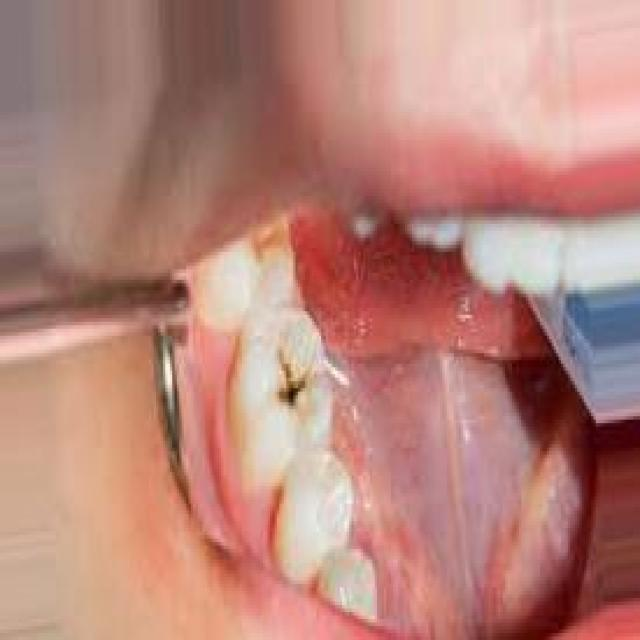caries: (258, 328, 326, 429)
